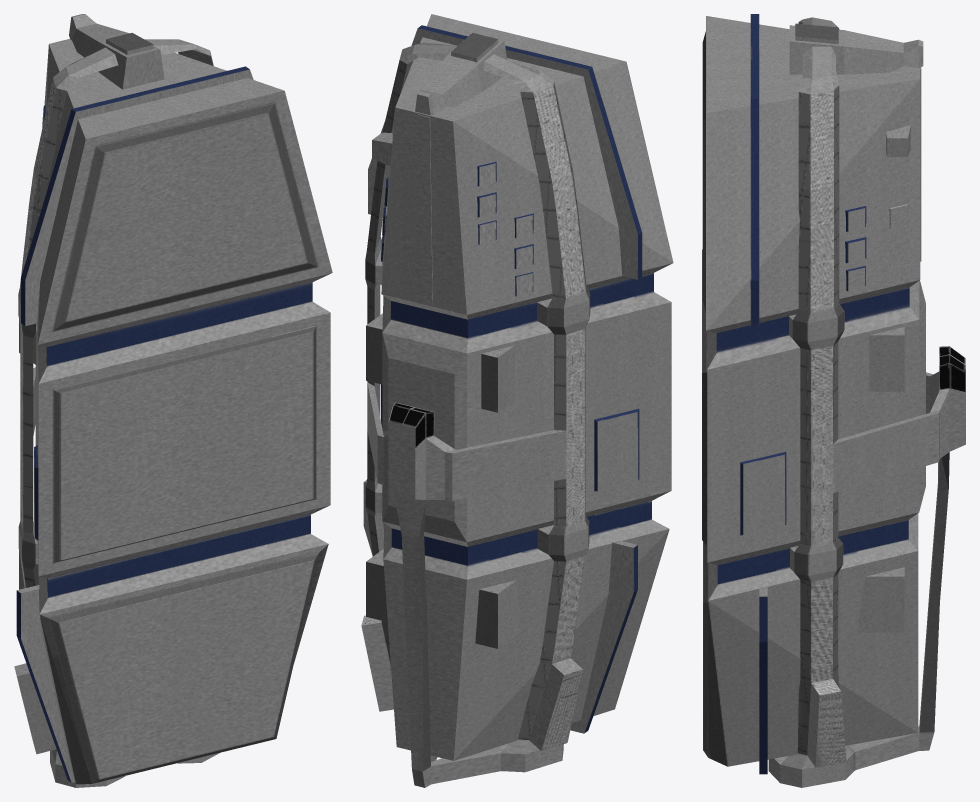
The model's file is hull.fbx.
3 renders of one model, left to right at view 1: azimuth 30°, elevation 25°; view 2: azimuth 150°, elevation 25°; view 3: azimuth 270°, elevation 25°, orthographic. The views are drawn at different scales.
Visible parts, largest first — view 1: hull; view 2: hull; view 3: hull.
Part boxes in pixels (<box>): hull: <box>14,14,332,787</box>; hull: <box>361,14,673,787</box>; hull: <box>702,14,965,787</box>.
Size of the model in its own units: 2389 by 5547 by 1847.
1 material, 1 textured.
